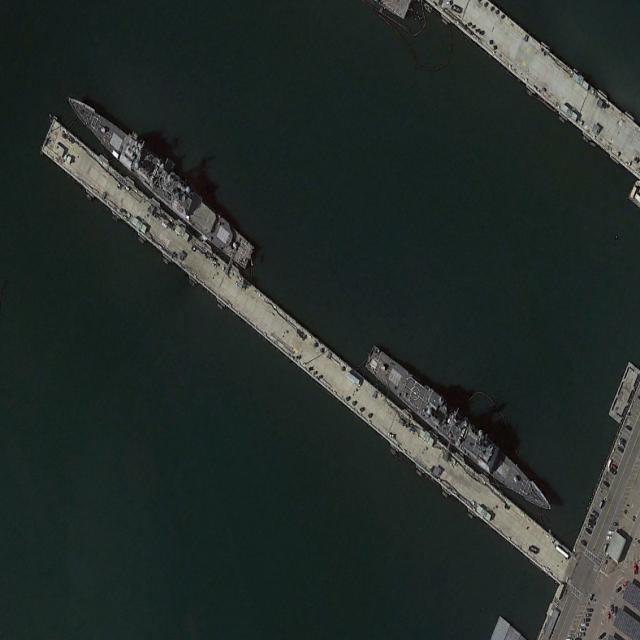Cruiser: (60, 80, 257, 273), (362, 340, 558, 521)
